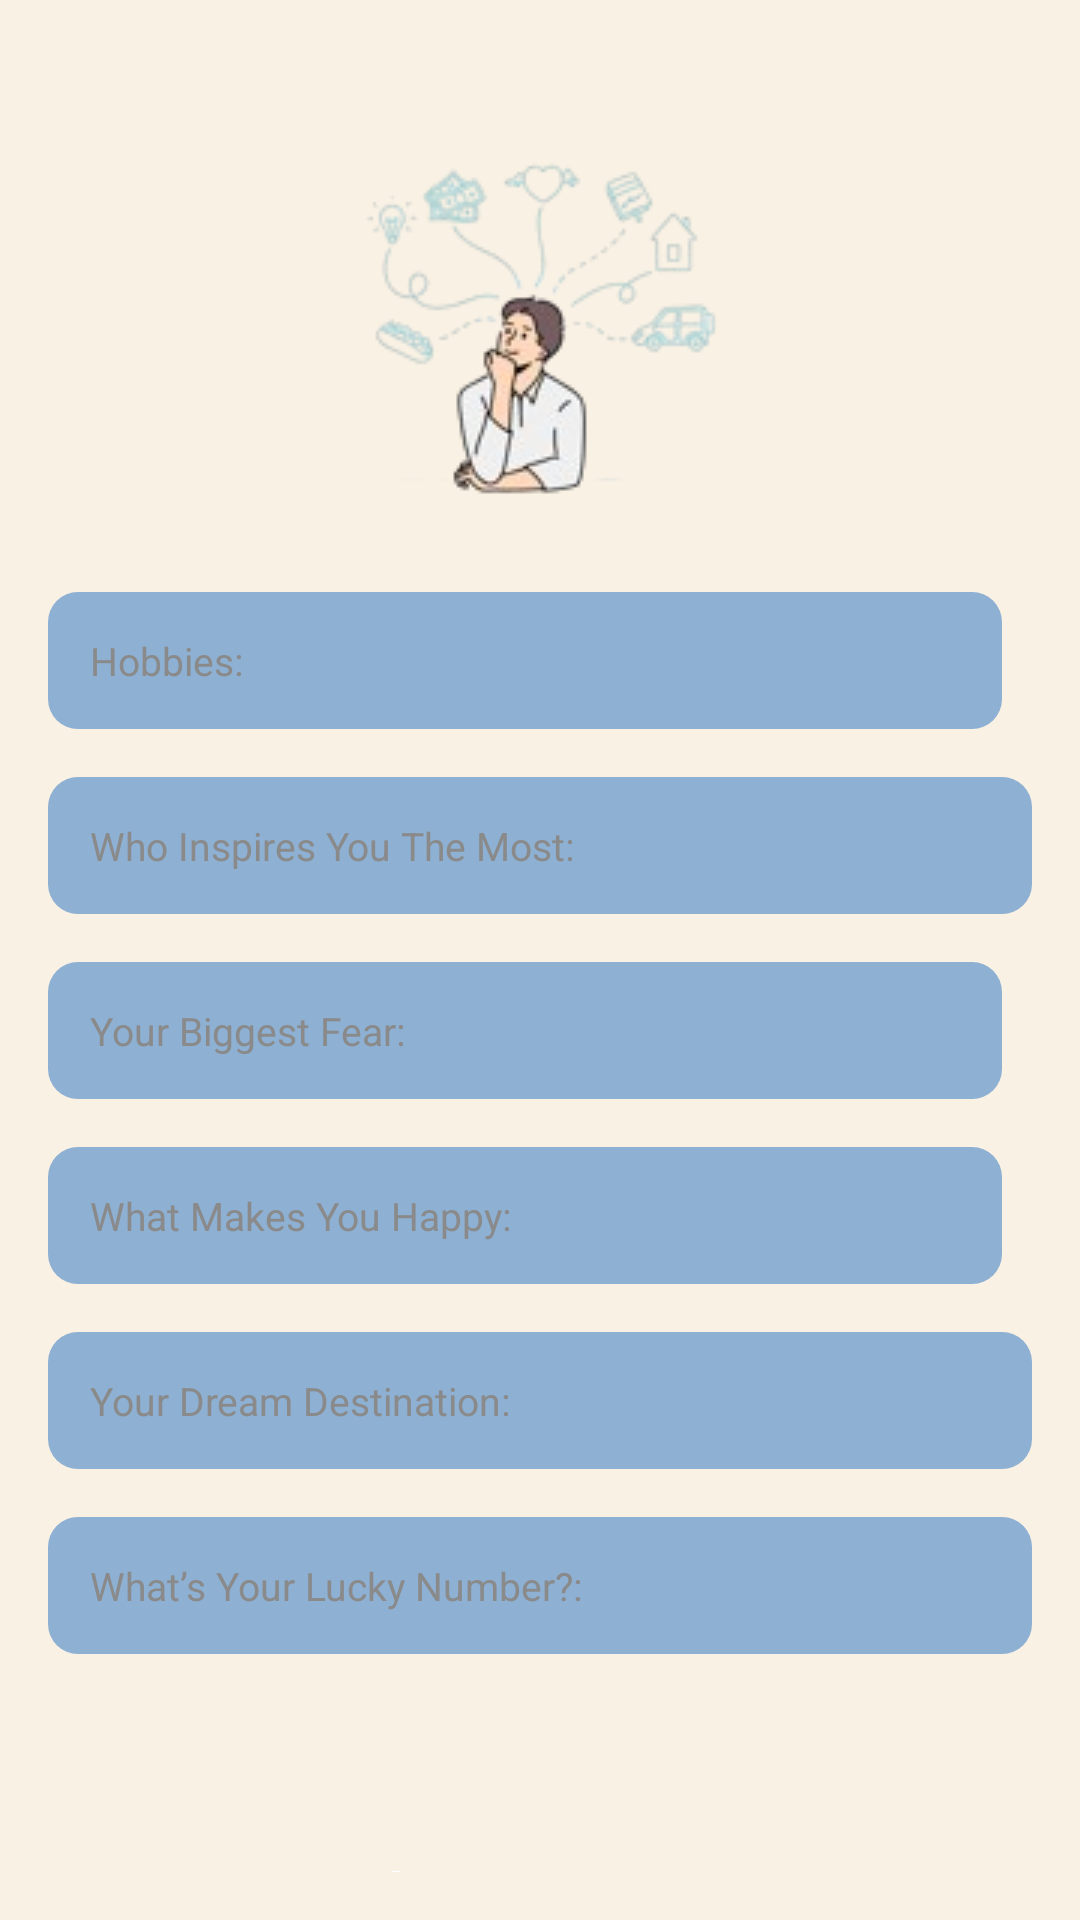

Locate icon controls on the screen. Image size 1080px x 1920px, boxes as [left=x1, top=y1, right=x2, bottom=y2].
imagine: [left=369, top=166, right=715, bottom=494]
